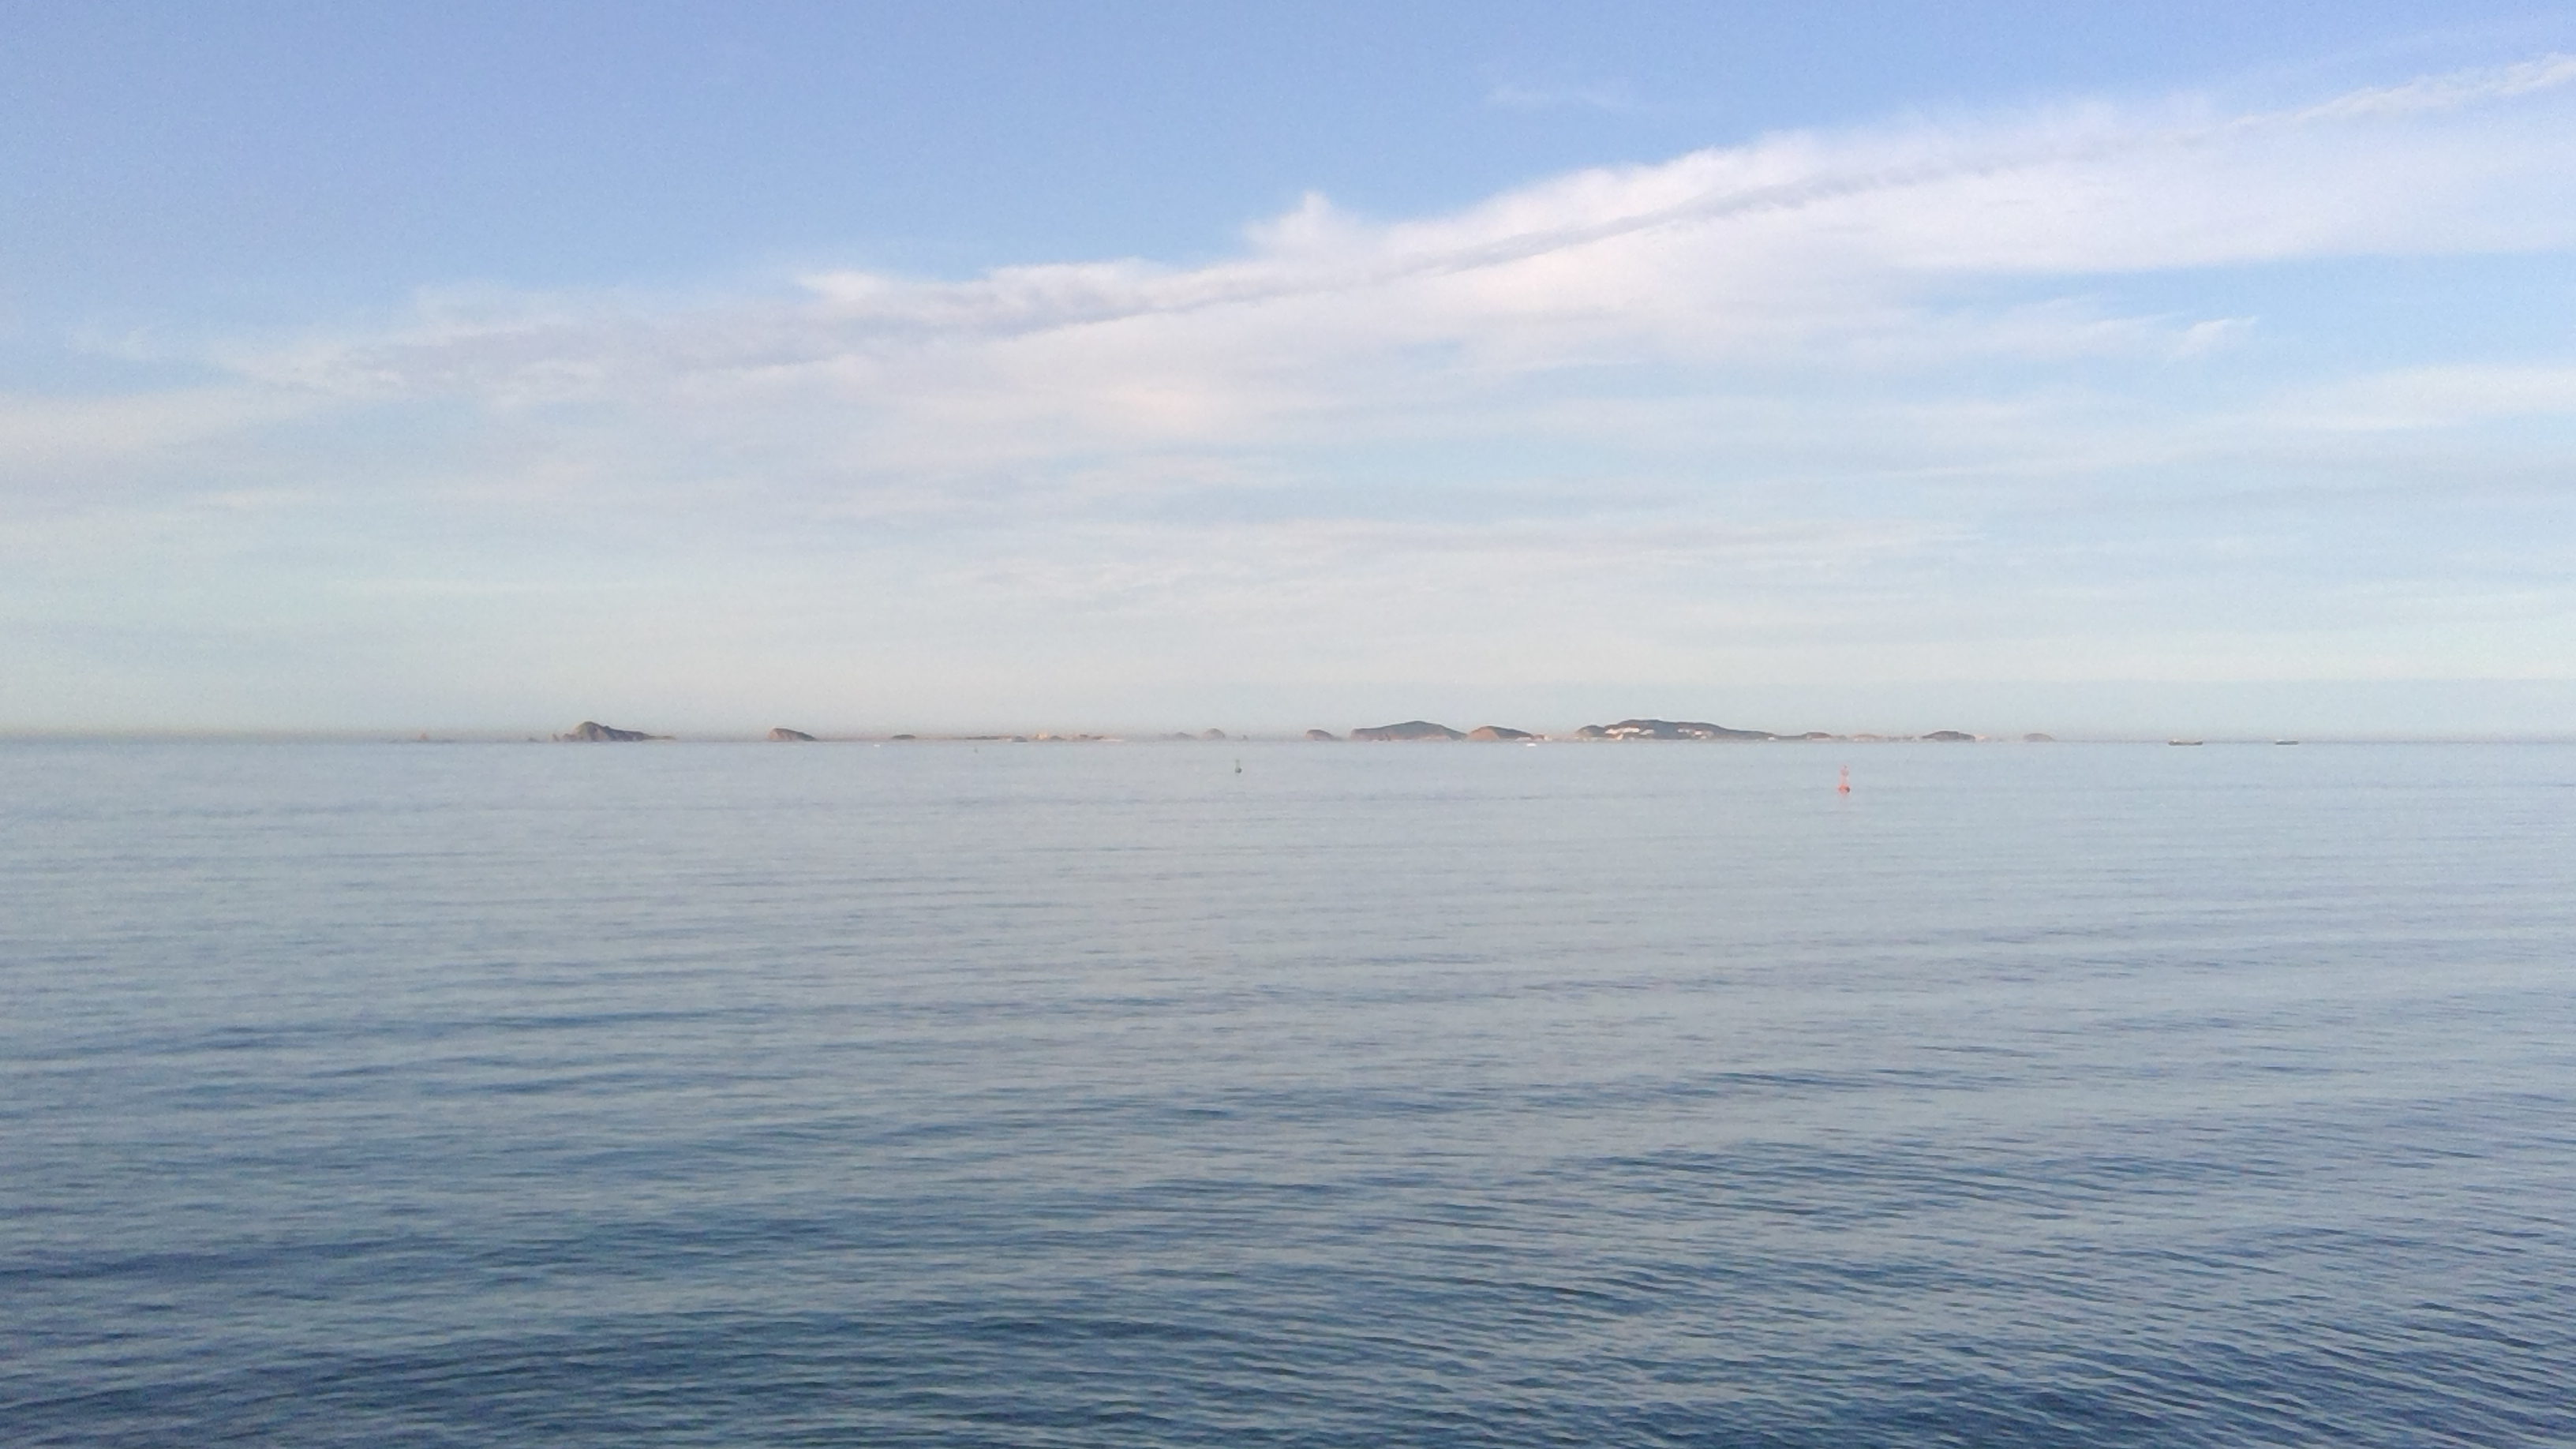harbor: (1826, 734, 1865, 812)
rock: (1300, 704, 1552, 754), (1580, 704, 1817, 745), (564, 704, 655, 755), (764, 727, 824, 750)
